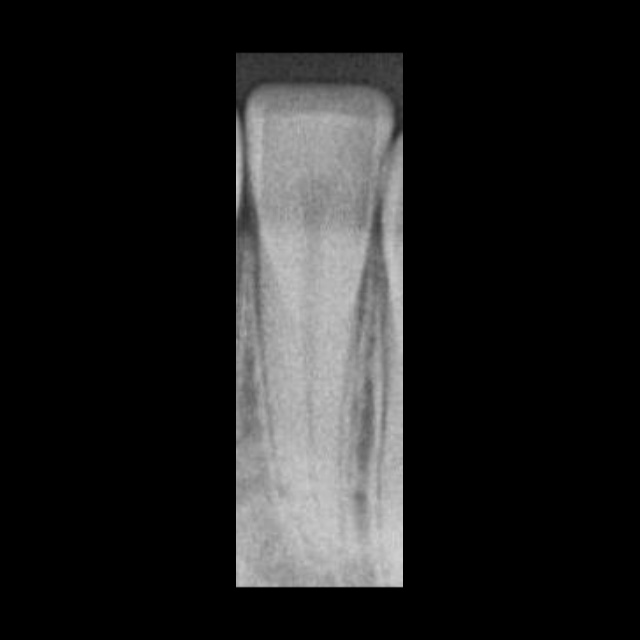tooth: (245, 80, 396, 569)
